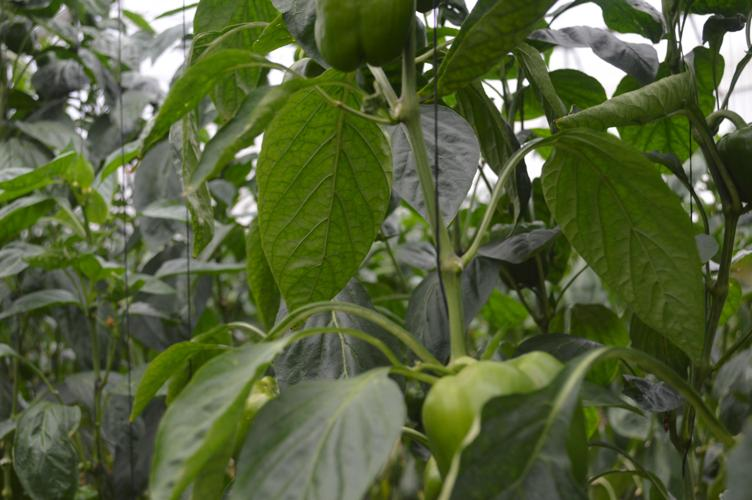BellPepper: (414, 328, 569, 468), (307, 1, 414, 73)
